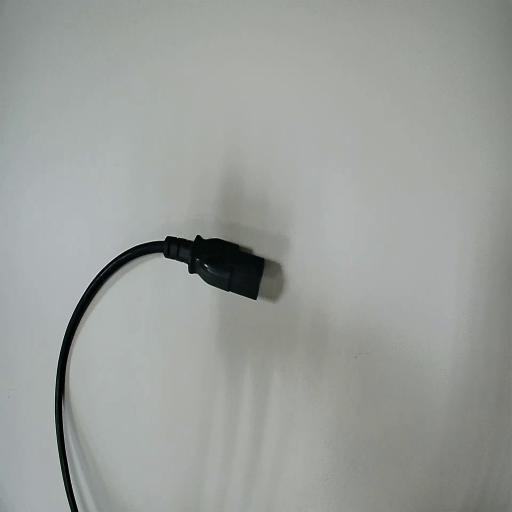wire: (56, 236, 266, 511)
